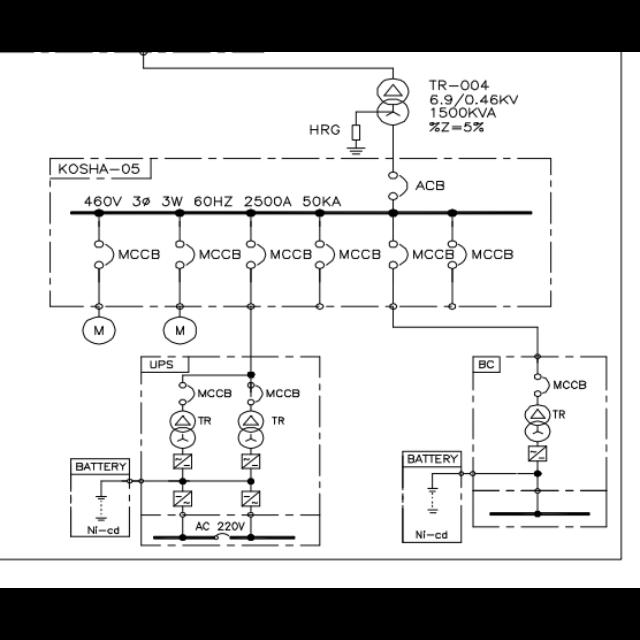GND: (344, 146, 368, 156), (94, 496, 108, 504), (427, 487, 439, 495)
MCCB: (388, 239, 408, 269), (175, 240, 195, 268), (388, 172, 408, 200), (247, 241, 266, 269), (95, 241, 113, 269), (316, 240, 334, 268), (449, 240, 467, 268), (534, 375, 550, 397), (180, 382, 194, 406), (248, 384, 264, 404)
